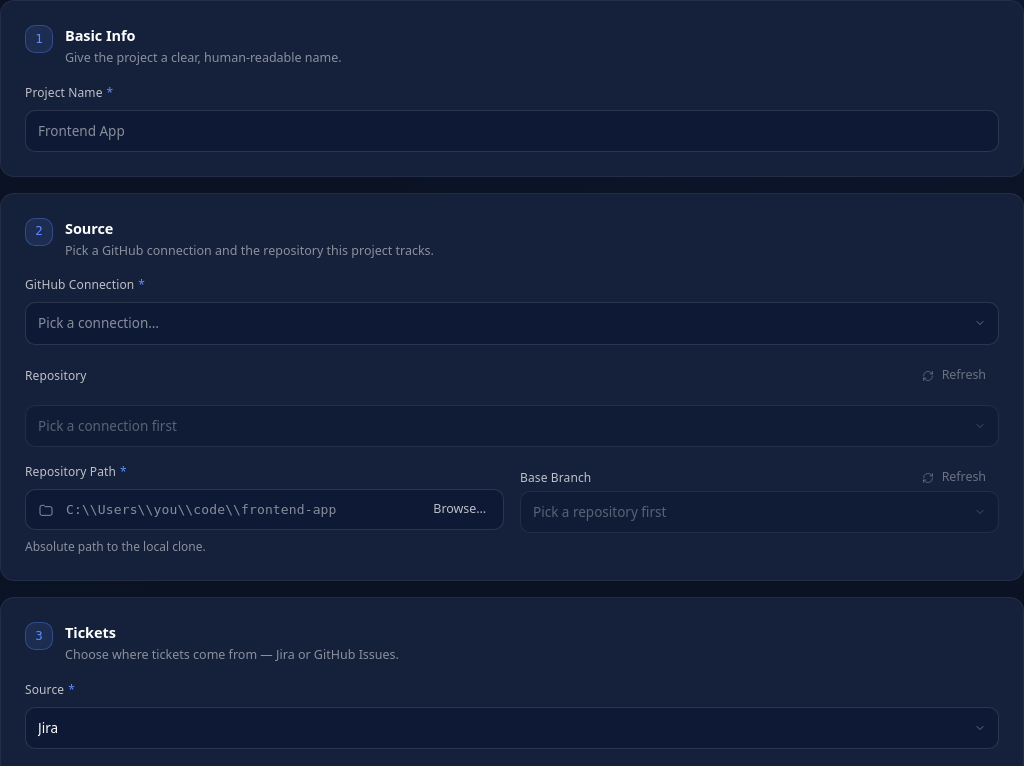
Folder picker — DIALOG › DIALOG-004: on success, the picked path is written to repoLocalPath form state
Click the button with test id "field-repo-local-path-browse".
click(460, 510)  # box [420,494,499,524]
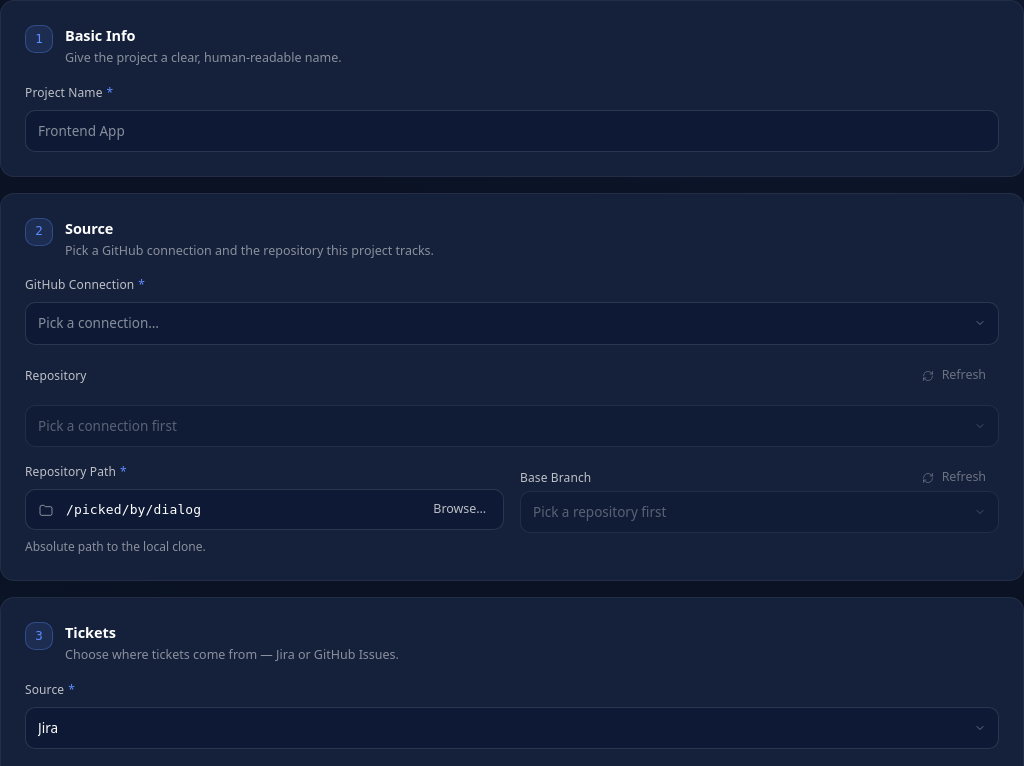
Now the field with test id "field-repo-local-path" holds "/picked/by/dialog", box [54,490,420,529]
